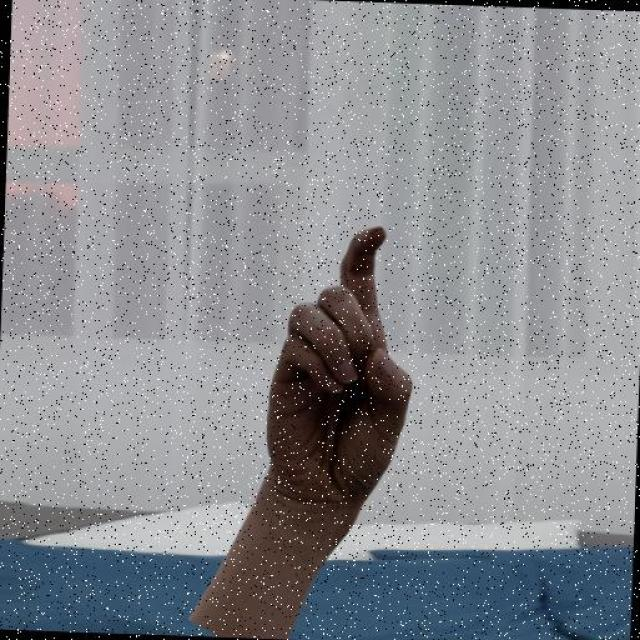X: (259, 218, 426, 522)
